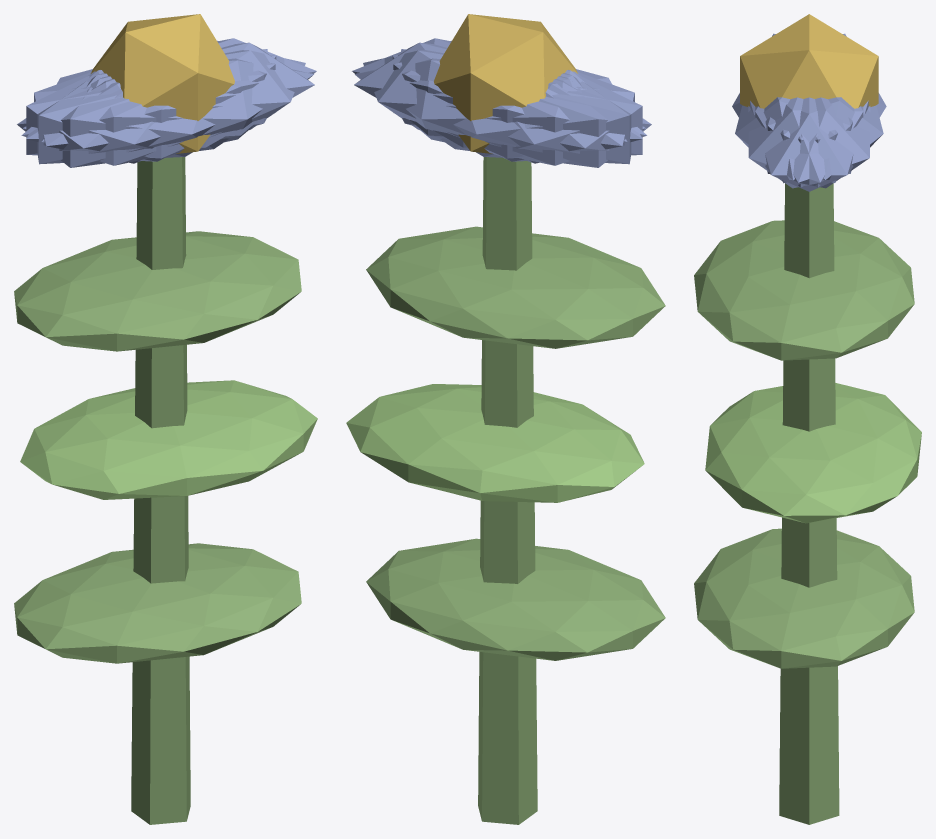
File: ficus-cumingii.glb
3 renders of one model, left to right at view 1: azimuth 30°, elevation 25°; view 2: azimuth 150°, elevation 25°; view 3: azimuth 270°, elevation 25°, orthographic.
Visible parts, largest first — view 1: leaf2, leaf0, leaf1, stem, center, petal1, petal6, petal2, petal5, petal7, petal0, petal4 (+2 smaller); view 2: leaf2, leaf1, leaf0, stem, center, petal8, petal3, petal7, petal4, petal2, petal0, petal5 (+2 smaller); view 3: leaf2, leaf1, leaf0, stem, center, petal0, petal5, petal4, petal1, petal8.
Part boxes in pixels (<box>): leaf2: <box>14,231,301,351</box>; leaf0: <box>14,543,301,663</box>; leaf1: <box>20,380,317,499</box>; stem: <box>131,157,190,824</box>; center: <box>90,14,234,153</box>; petal1: <box>21,58,313,165</box>; petal6: <box>17,71,228,167</box>; petal2: <box>37,49,267,164</box>; petal5: <box>41,50,305,158</box>; petal7: <box>26,55,276,161</box>; petal0: <box>90,42,314,148</box>; petal4: <box>23,38,316,139</box>; leaf2: <box>366,226,665,348</box>; leaf1: <box>346,384,644,502</box>; leaf0: <box>366,538,665,660</box>; stem: <box>478,157,537,824</box>; center: <box>434,14,577,153</box>; petal8: <box>355,58,646,165</box>; petal3: <box>440,71,651,167</box>; petal7: <box>401,49,631,164</box>; petal4: <box>363,50,627,158</box>; petal2: <box>392,55,642,161</box>; petal0: <box>354,42,578,148</box>; petal5: <box>352,38,645,139</box>; leaf2: <box>694,220,914,360</box>; leaf1: <box>705,383,921,523</box>; leaf0: <box>694,528,914,668</box>; stem: <box>779,183,839,824</box>; center: <box>740,14,878,108</box>; petal0: <box>750,97,868,191</box>; petal5: <box>748,97,863,188</box>; petal4: <box>755,97,870,188</box>; petal1: <box>735,97,852,180</box>; petal8: <box>765,97,883,180</box>.
Size of the model in its own units: 0.1452 by 0.3805 by 0.1008.
